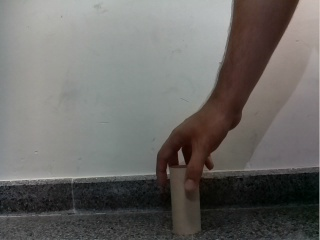rollo papel: (169, 166, 203, 234)
